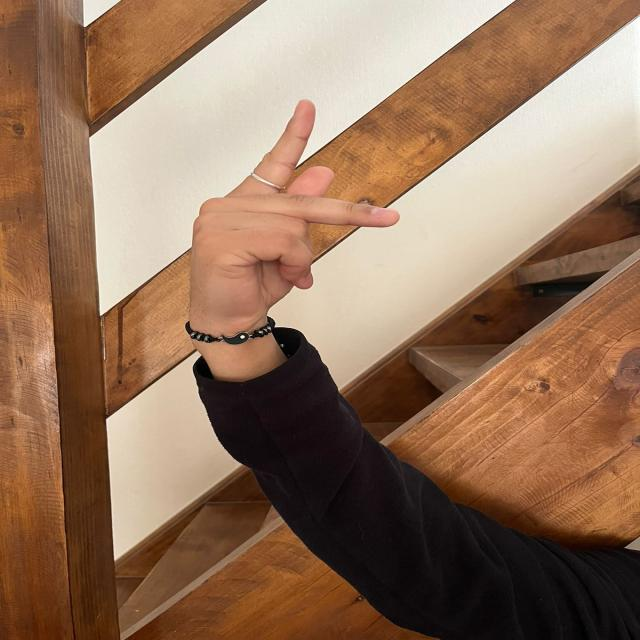K: (182, 92, 414, 342)
